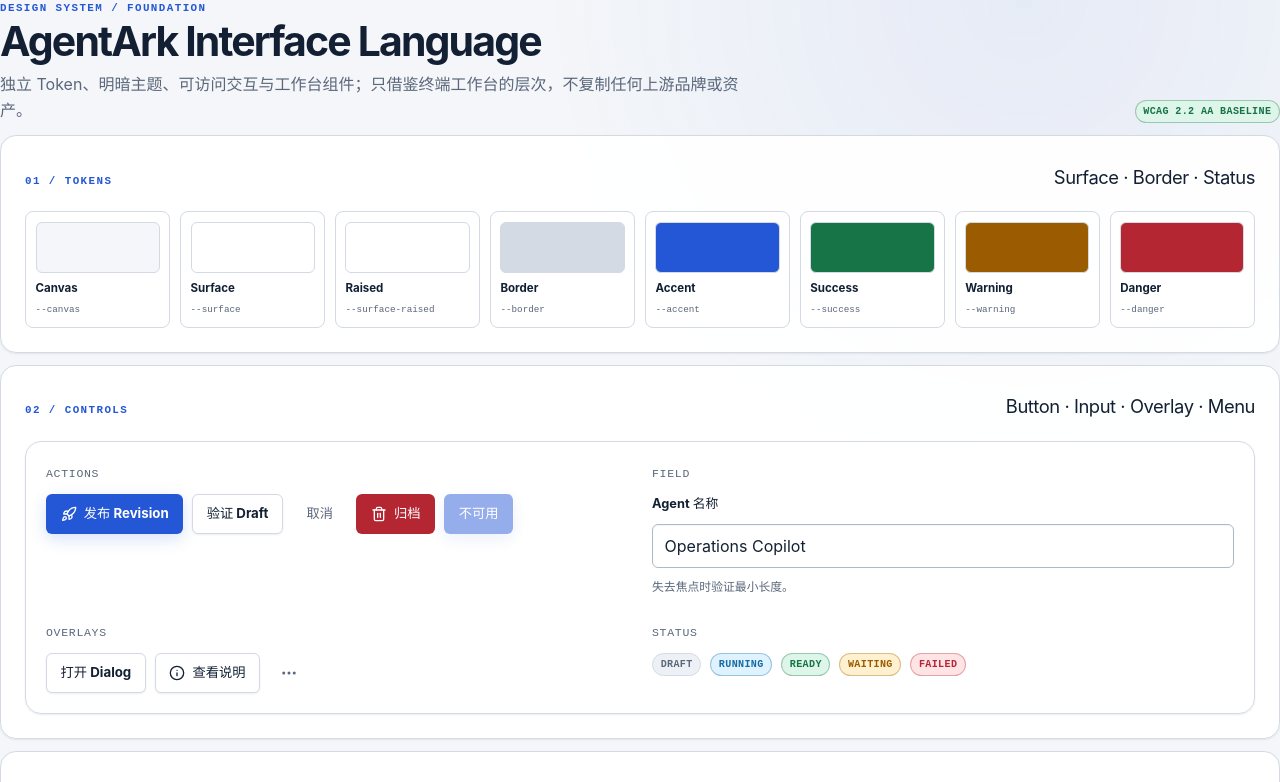
Test: Design System 测试页 › 覆盖核心组件和模态焦点恢复
Expected: the heading "AgentArk Interface Language" is shown, [0,16,541,66]
Click the button "打开 Dialog": (96, 673) [46,653,146,693]
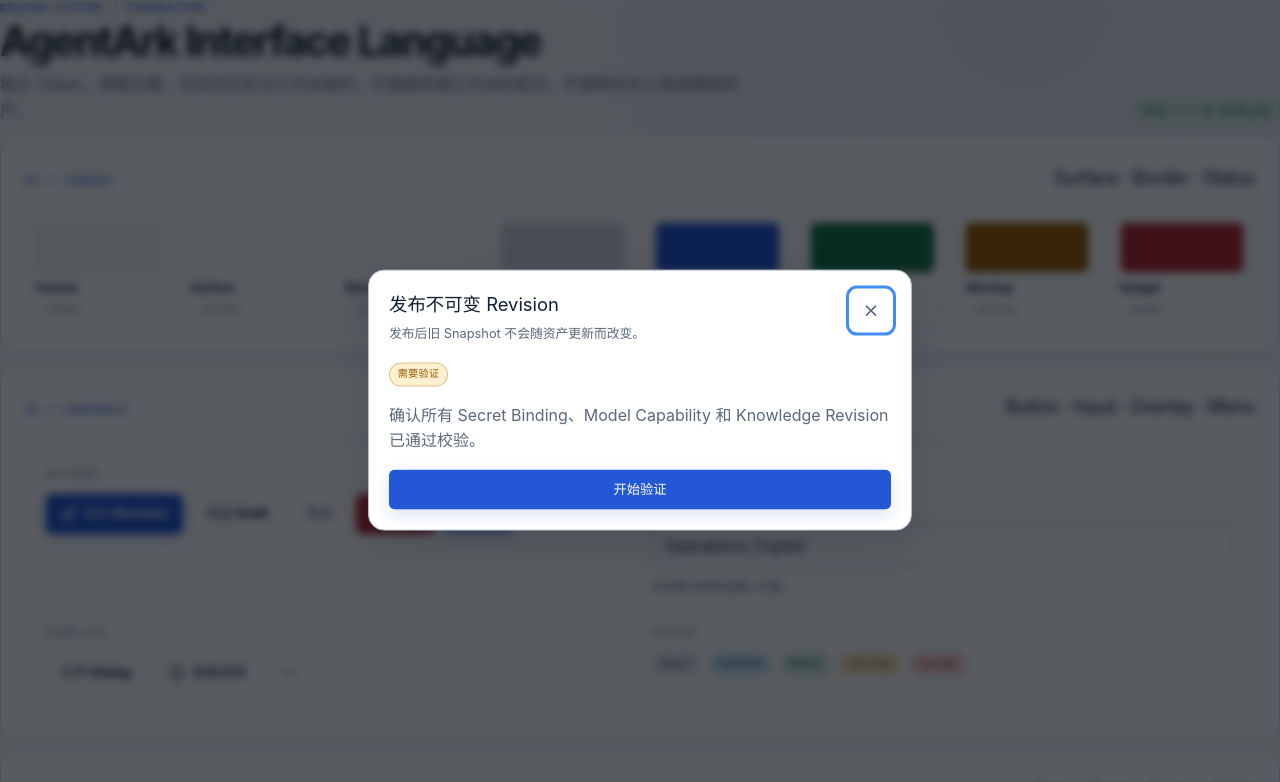
Result: the dialog "发布不可变 Revision" is shown at [368,270,912,530]
Press Escape
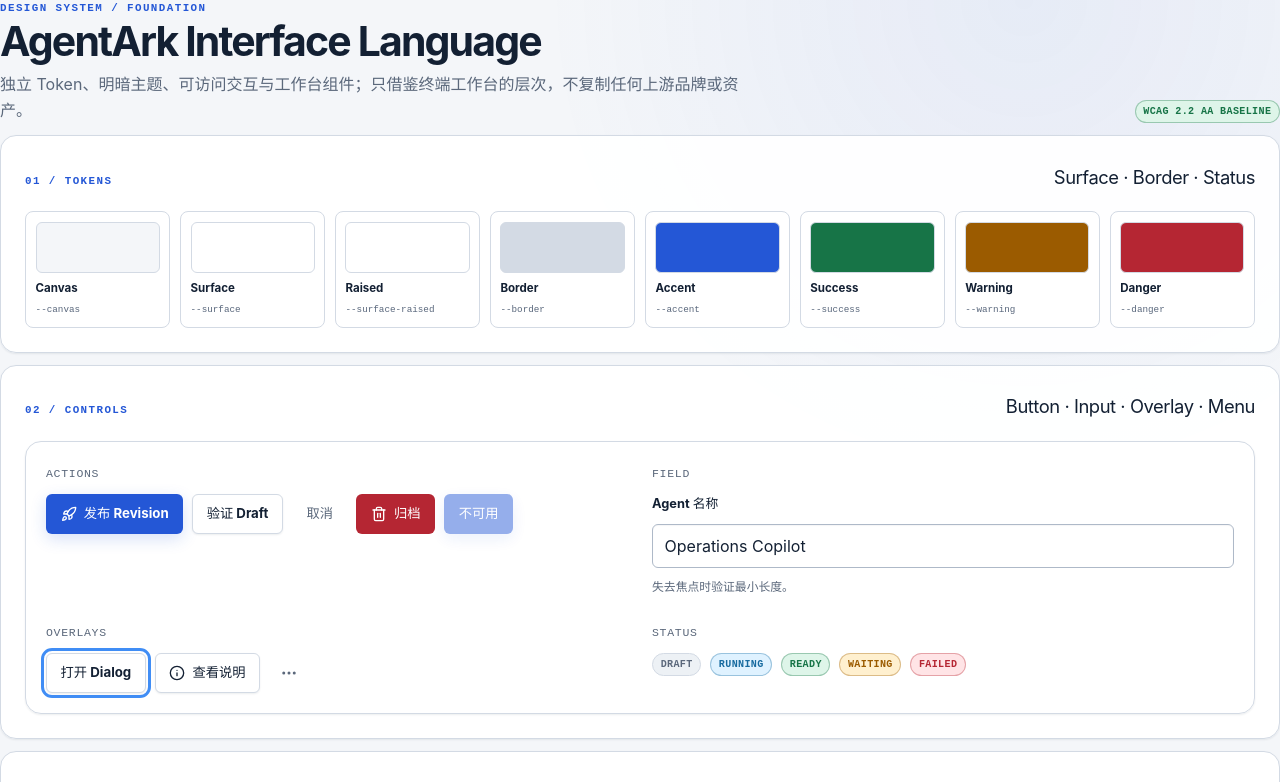
Result: the heading "发布不可变 Revision" is gone
